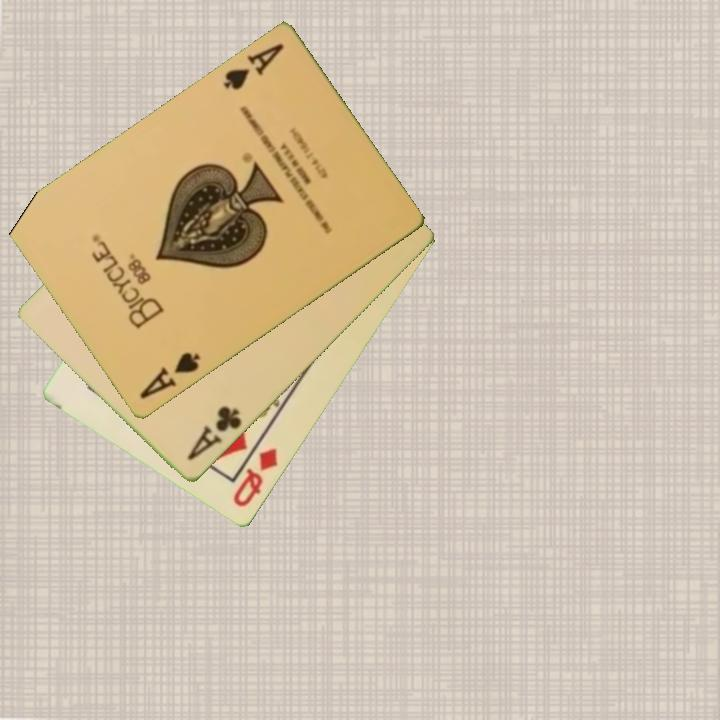Ac: (183, 402, 245, 464)
As: (219, 40, 287, 94), (136, 349, 203, 403)
Qd: (229, 444, 281, 511)
